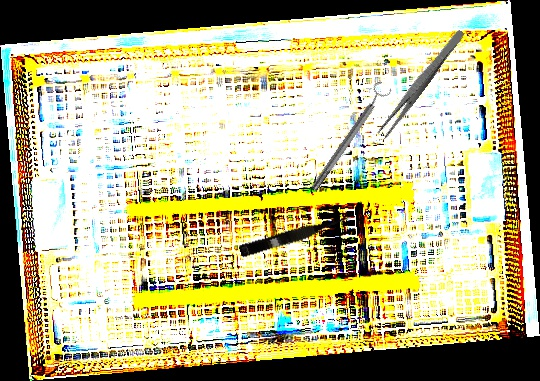Dressing Forceps: (376, 26, 466, 141)
Fixation Ring: (304, 79, 395, 195)
Micro Scissor: (238, 211, 356, 260)
